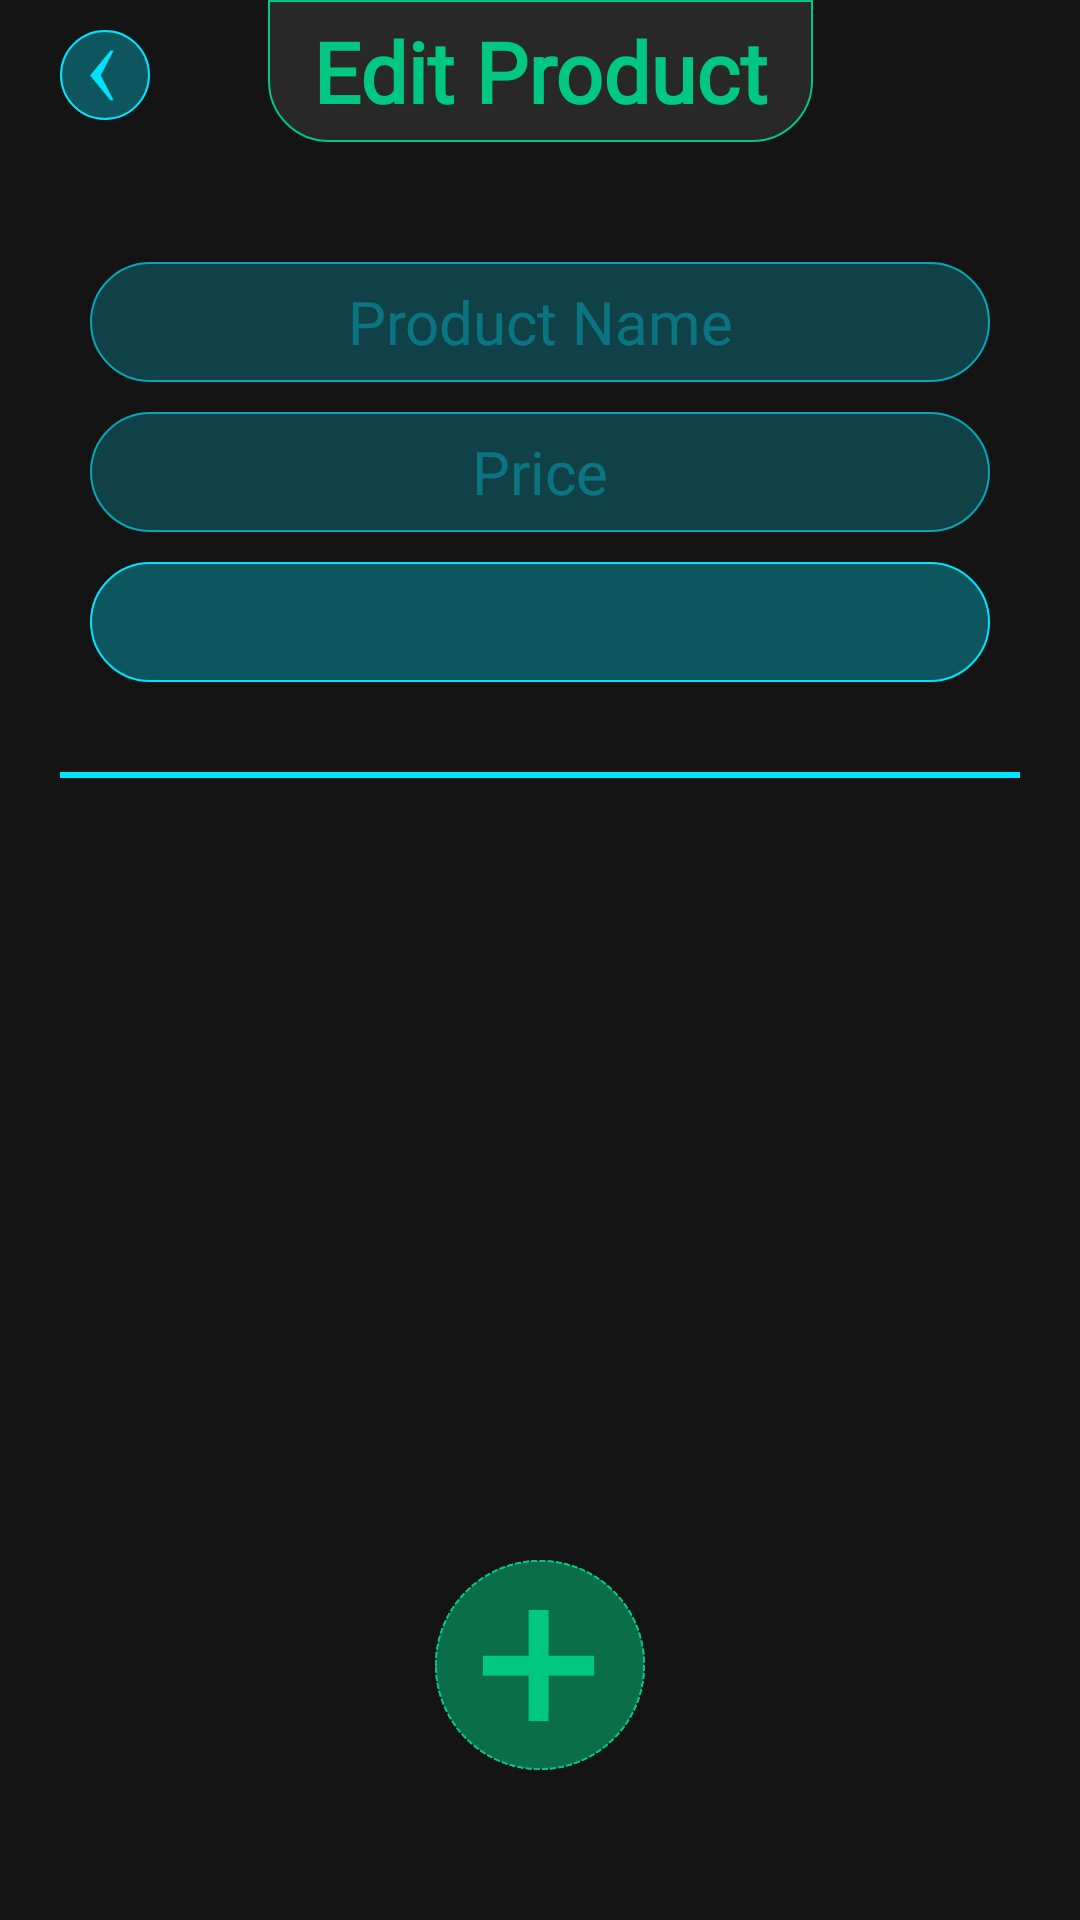

Icons on this 1080px x 1920px Android screen, each with the point to tap as point (x, y):
back: point (102, 75)
